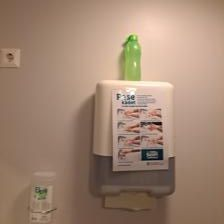bottle: (119, 31, 143, 79)
